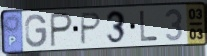3: (105, 8, 129, 46), (164, 7, 184, 43)
G: (24, 13, 48, 49)
L: (138, 10, 160, 43)
P: (49, 11, 74, 49), (79, 11, 103, 46)
